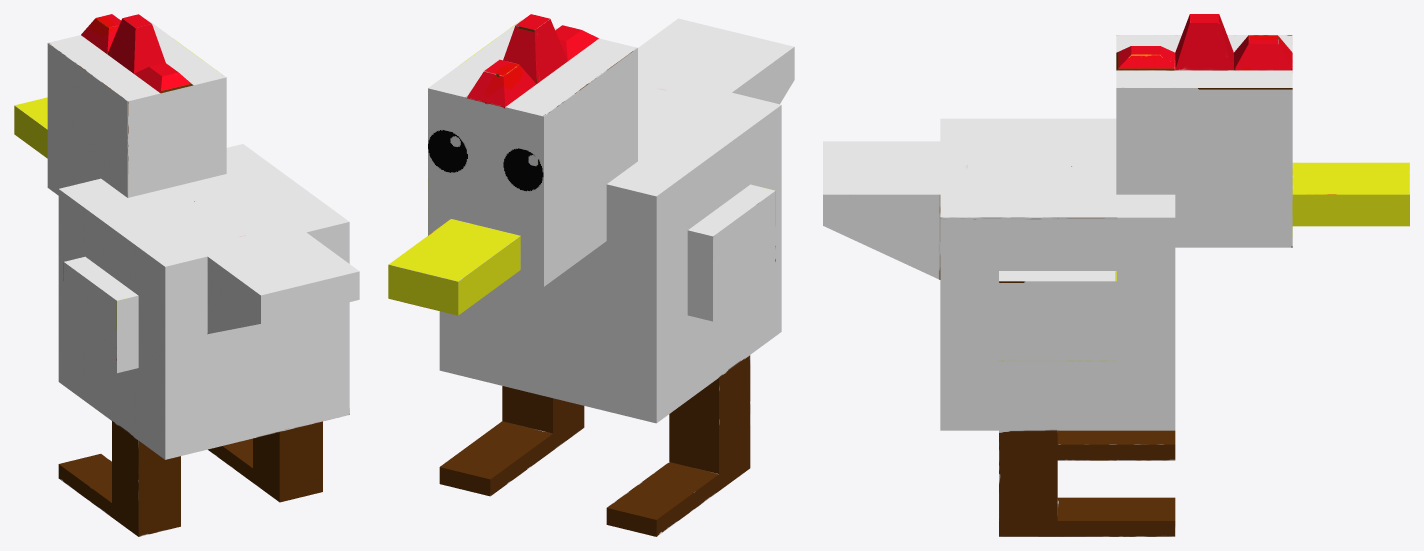
File: Chicken.fbx
3 renders of one model, left to right at view 1: azimuth 30°, elevation 25°; view 2: azimuth 150°, elevation 25°; view 3: azimuth 270°, elevation 25°, orthographic. The views are drawn at different scales.
Parts seen in each view (by area): view 1: Cube; view 2: Cube; view 3: Cube.
Boxes of the visible parts, x1,y1,x2,y2 form: Cube: [14, 14, 359, 536]; Cube: [388, 14, 794, 536]; Cube: [823, 14, 1409, 536].
Size of the model in its own units: 244 by 441 by 500.
1 material, 1 textured.
